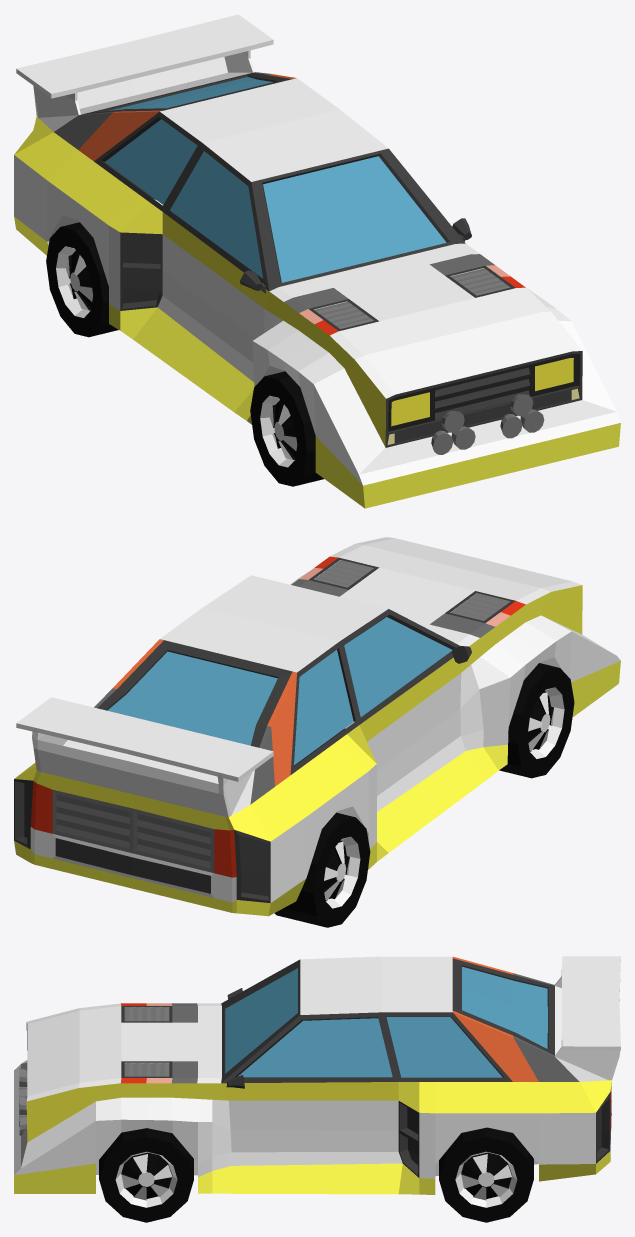
The model's file is audi_quattro_-_group_b.glb.
The picture shows the model from 3 angles, top to bottom: view 1: azimuth 30°, elevation 25°; view 2: azimuth 150°, elevation 25°; view 3: azimuth 270°, elevation 25°; orthographic projection. The views are drawn at different scales.
Visible parts, largest first — view 1: Cubo; view 2: Cubo; view 3: Cubo.
Boxes of the visible parts, x1=… form: Cubo: x1=14, y1=14, x2=620, y2=508; Cubo: x1=14, y1=537, x2=620, y2=927; Cubo: x1=14, y1=956, x2=620, y2=1222.
Size of the model in its own units: 5.96 by 4.7 by 14.04.
1 material, 1 textured.
